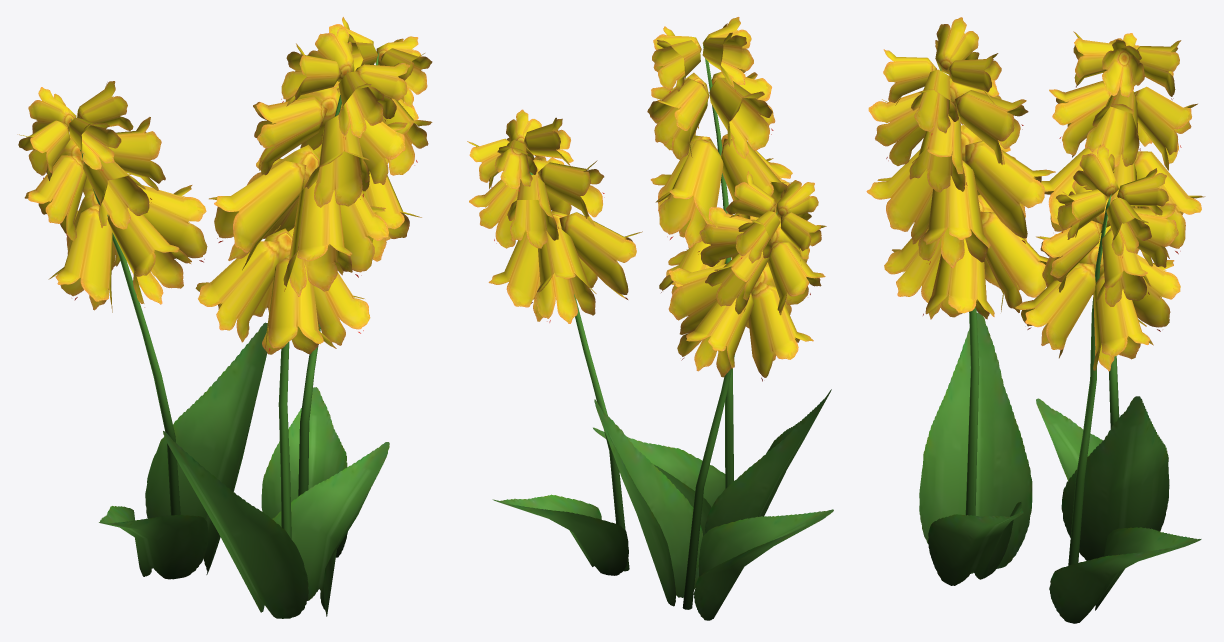
Rendered from flowers-2.glb.
3 renders of one model, left to right at view 1: azimuth 30°, elevation 25°; view 2: azimuth 150°, elevation 25°; view 3: azimuth 270°, elevation 25°, orthographic. The views are drawn at different scales.
Parts seen in each view (by area): view 1: Flower_4_Group; view 2: Flower_4_Group; view 3: Flower_4_Group.
Boxes of the visible parts, x1,y1,x2,y2 form: Flower_4_Group: (17, 17, 432, 618); Flower_4_Group: (467, 17, 833, 620); Flower_4_Group: (866, 17, 1205, 623).
Size of the model in its own units: 1.78 by 2.49 by 1.37.
Materials: 2 (2 with a texture image).
